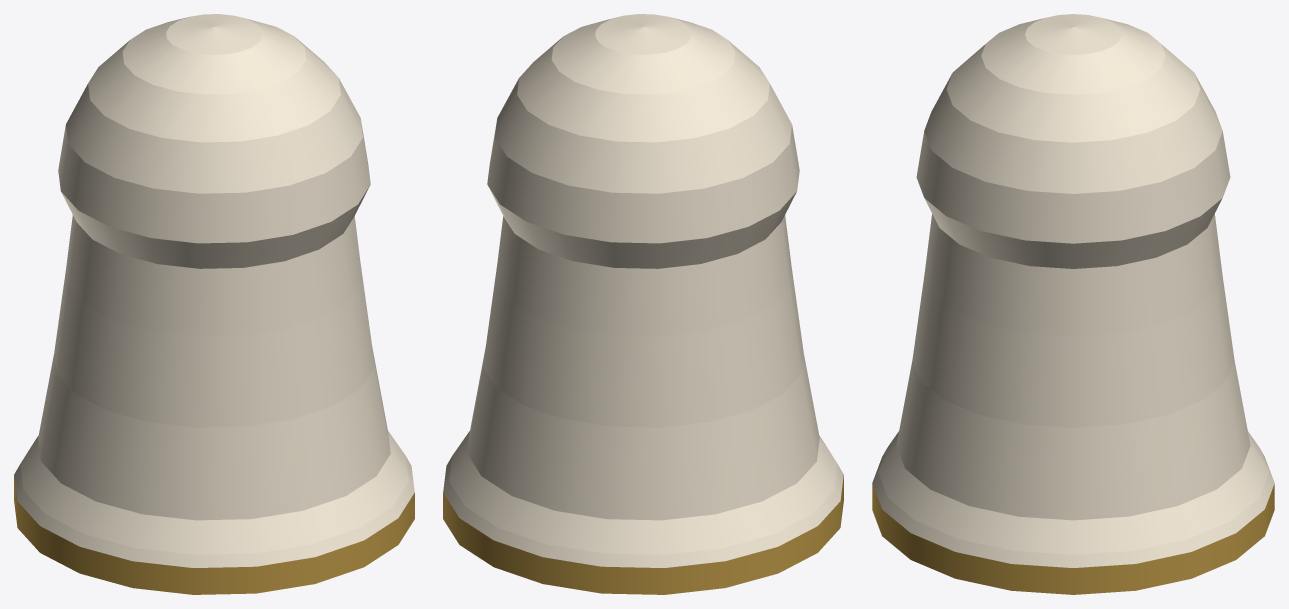
The model's file is pawn_you.glb.
3 renders of one model, left to right at view 1: azimuth 30°, elevation 25°; view 2: azimuth 150°, elevation 25°; view 3: azimuth 270°, elevation 25°, orthographic.
Visible parts, largest first — view 1: pawn_you; view 2: pawn_you; view 3: pawn_you.
Boxes of the visible parts, <box> form: pawn_you: <box>14,14,414,594</box>; pawn_you: <box>443,14,843,594</box>; pawn_you: <box>872,14,1274,594</box>.
Bounding box in the file's own units: 0.034 × 0.045 × 0.034.
